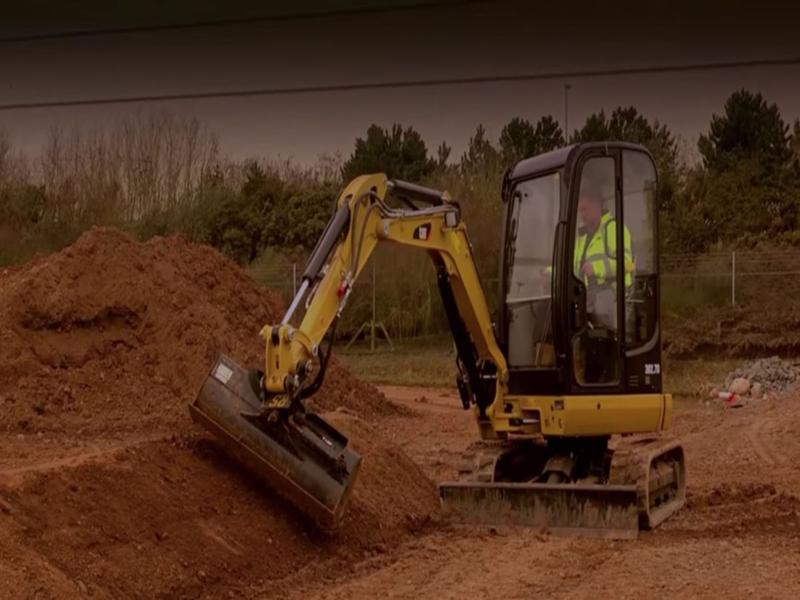shovel: (190, 124, 698, 556)
